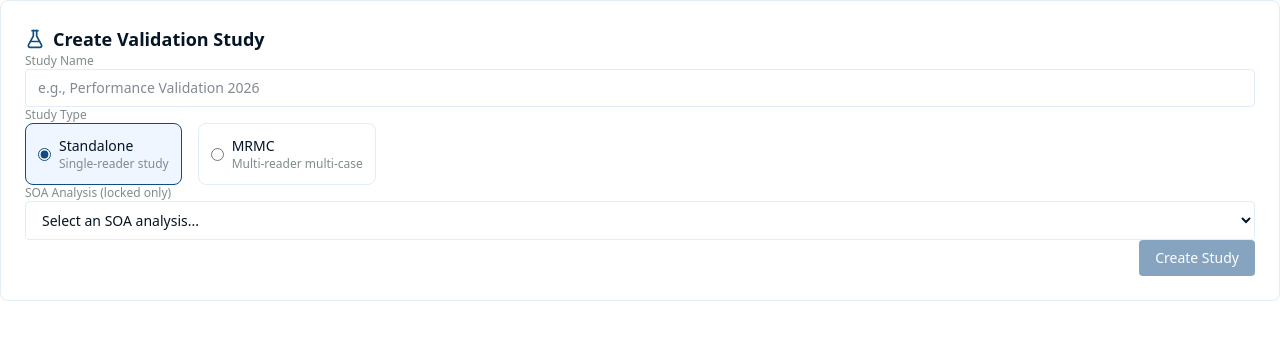
Scenario: StudyConfigurator › shows Launch Mini SLS button for MRMC type
This screenshot has width=1280, height=356.
Click the radio button with test id "study-type-mrmc" at point(217, 154), box 211,148 -> 224,160
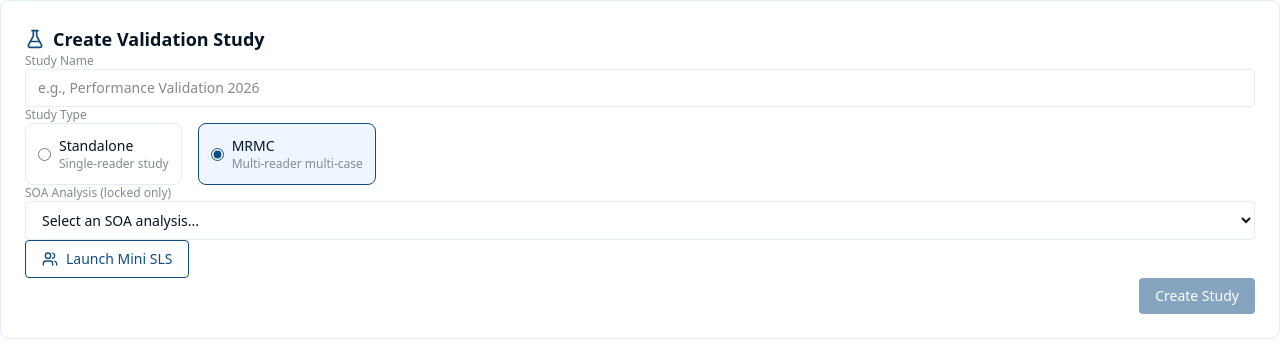
Expected: the button with test id "launch-mini-sls-btn" is shown, 25,240 -> 189,278
